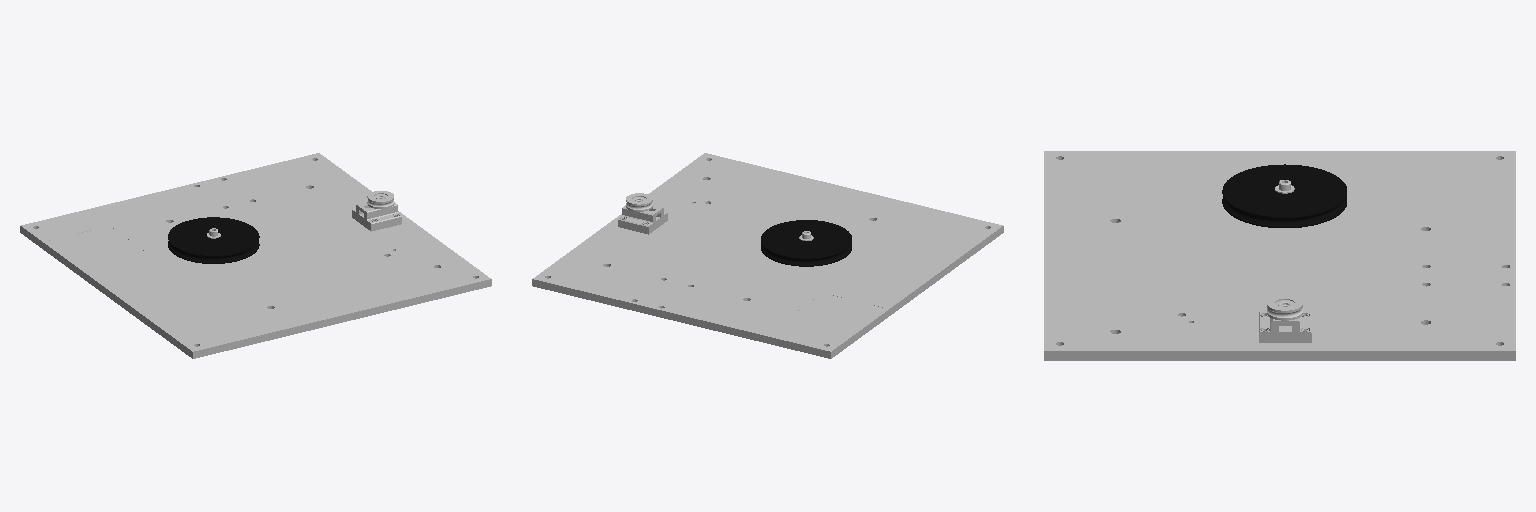
The robot description file, URDF, robot "round_belt_task_board":
<?xml version='1.0' encoding='UTF-8'?>
<robot name="round_belt_task_board">
  <link name="board">
    <visual name="board">
      <origin xyz="0 0 0" rpy="0 0 0"/>
      <geometry>
        <mesh filename="round_belt_task_board/round_belt_task_board.obj" scale="1 1 1"/>
      </geometry>
      <material name="light_grey">
        <color rgba="0.8 0.8 0.8 1"/>
      </material>
    </visual>
    <collision name="board_collision">
      <origin xyz="0.192 0.192 -0.005" rpy="0 0 0"/>
      <geometry>
        <box size="0.384 0.384 0.01"/>
      </geometry>
    </collision>
  </link>
  <link name="small_round_pulley">
    <inertial>
      <origin xyz="0 0 0" rpy="0 0 0"/>
      <mass value="0.05"/>
      <inertia ixx="3.06677e-05" iyy="3.0667375e-05" izz="6.0454911e-05" ixy="5.7518697e-14" ixz="1.6724428e-11" iyz="-1.9003215e-11"/>
    </inertial>
    <visual name="first_half">
      <origin xyz="0.355 0.196 0.0248" rpy="0 0 0"/>
      <geometry>
        <mesh filename="round_belt_task_board/small_round_pulley/small_round_pulley_half.obj" scale="0.001 0.001 0.001"/>
      </geometry>
      <material name="white">
        <color rgba="0.8 0.8 0.8 1"/>
      </material>
    </visual>
    <collision name="first_half_volume">
      <origin xyz="0.355 0.196 0.0248" rpy="0 0 0"/>
      <geometry>
        <mesh filename="round_belt_task_board/small_round_pulley/small_round_pulley_half.obj" scale="0.001 0.001 0.001"/>
      </geometry>
    </collision>
    <visual name="second_half">
      <origin xyz="0.355 0.196 0.0248" rpy="3.14159 0 0"/>
      <geometry>
        <mesh filename="round_belt_task_board/small_round_pulley/small_round_pulley_half.obj" scale="0.001 0.001 0.001"/>
      </geometry>
      <material name="white">
        <color rgba="0.8 0.8 0.8 1"/>
      </material>
    </visual>
    <collision name="second_half_volume">
      <origin xyz="0.355 0.196 0.0248" rpy="3.14159 0 0"/>
      <geometry>
        <mesh filename="round_belt_task_board/small_round_pulley/small_round_pulley_half.obj" scale="0.001 0.001 0.001"/>
      </geometry>
    </collision>
  </link>
  <link name="large_round_pulley">
    <inertial>
      <origin xyz="0 0 0" rpy="0 0 0"/>
      <mass value="0.05"/>
      <inertia ixx="3.06677e-05" iyy="3.0667375e-05" izz="6.0454911e-05" ixy="5.7518697e-14" ixz="1.6724428e-11" iyz="-1.9003215e-11"/>
    </inertial>
    <visual name="first_half">
      <origin xyz="0.140 0.196 0.0248" rpy="0 0 0"/>
      <geometry>
        <mesh filename="round_belt_task_board/large_round_pulley/large_round_pulley_half.obj" scale="0.001 0.001 0.001"/>
      </geometry>
      <material name="dark_grey">
        <color rgba="0.1 0.1 0.1 1"/>
      </material>
    </visual>
    <collision name="first_half_volume">
      <origin xyz="0.140 0.196 0.0248" rpy="0 0 0"/>
      <geometry>
        <mesh filename="round_belt_task_board/large_round_pulley/large_round_pulley_half.obj" scale="0.001 0.001 0.001"/>
      </geometry>
    </collision>
    <visual name="second_half">
      <origin xyz="0.140 0.196 0.0248" rpy="3.14159 0 0"/>
      <geometry>
        <mesh filename="round_belt_task_board/large_round_pulley/large_round_pulley_half.obj" scale="0.001 0.001 0.001"/>
      </geometry>
      <material name="dark_grey">
        <color rgba="0.1 0.1 0.1 1"/>
      </material>
    </visual>
    <collision name="second_half_volume">
      <origin xyz="0.140 0.196 0.0248" rpy="3.14159 0 0"/>
      <geometry>
        <mesh filename="round_belt_task_board/large_round_pulley/large_round_pulley_half.obj" scale="0.001 0.001 0.001"/>
      </geometry>
    </collision>
  </link>
  <joint name="small_round_pulley_joint" type="fixed">
    <parent link="board"/>
    <child link="small_round_pulley"/>
    <origin xyz="0 0 0" rpy="0 0 0"/>
  </joint>
  <joint name="large_round_pulley_joint" type="fixed">
    <parent link="board"/>
    <child link="large_round_pulley"/>
    <origin xyz="0 0 0" rpy="0 0 0"/>
  </joint>
</robot>

--- Facts derived from the render (not from the file) ---
The picture shows the robot from 3 angles, left to right: view 1: azimuth 30°, elevation 25°; view 2: azimuth 150°, elevation 25°; view 3: azimuth 270°, elevation 25°; orthographic projection.
Robot: round_belt_task_board — 3 links, 2 joints (2 fixed); root link board; default pose: all joints at 0.
Visible links, largest first — view 1: board, large_round_pulley; view 2: board, large_round_pulley; view 3: board, large_round_pulley, small_round_pulley.
Boxes of the visible links, box(x1,y1,x2,y2) form: board: box(20, 153, 491, 358); large_round_pulley: box(168, 217, 259, 263); board: box(532, 153, 1003, 358); large_round_pulley: box(761, 220, 851, 266); board: box(1044, 151, 1515, 360); large_round_pulley: box(1222, 164, 1346, 227); small_round_pulley: box(1267, 295, 1302, 320).
Size in the robot's own frame: 0.384 by 0.384 by 0.058 metres.
5 mesh visuals loaded from 3 distinct referenced files (3 OBJ).